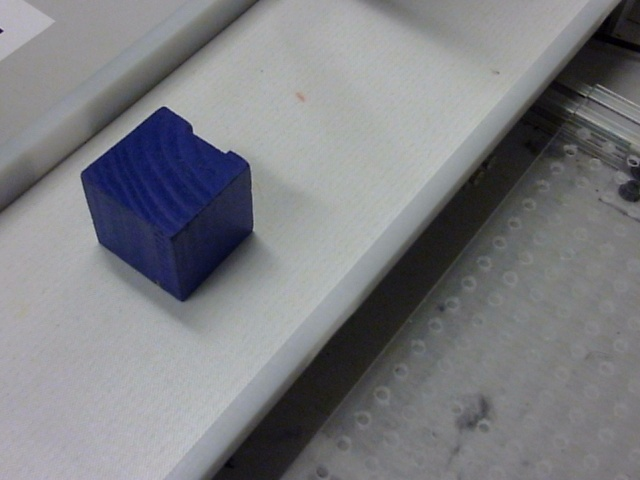BlueBlock: (80, 105, 256, 302)
